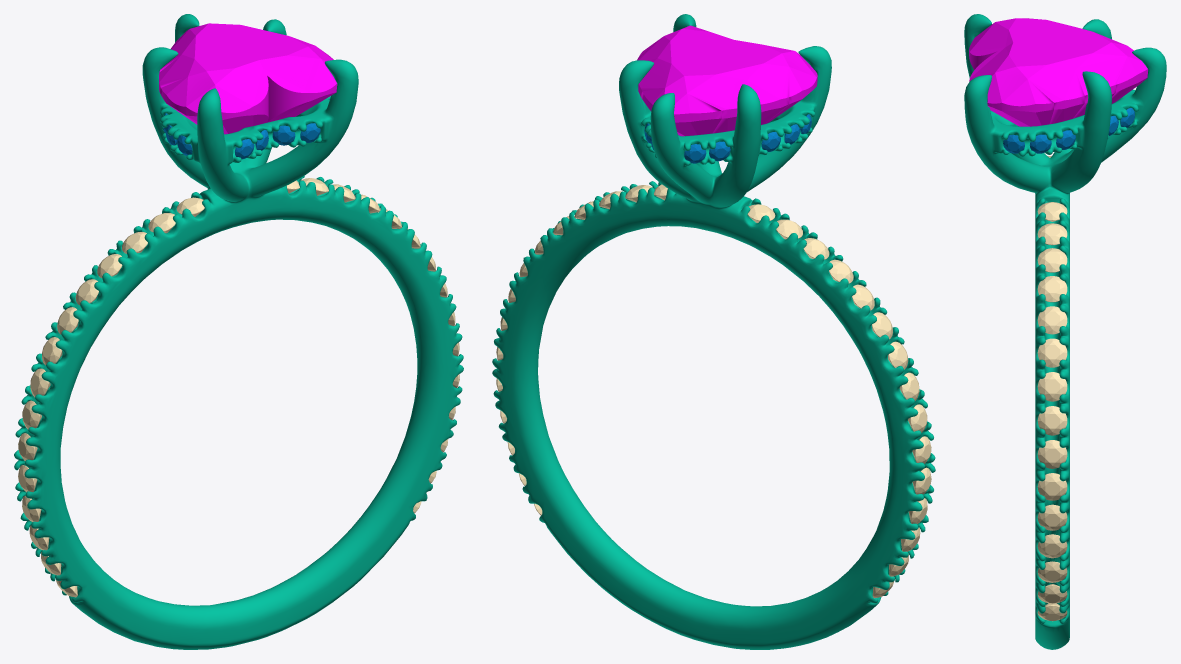
Rendered from BE1D1230_HT_200ct_RENDER.glb.
The picture shows the model from 3 angles, left to right: view 1: azimuth 30°, elevation 25°; view 2: azimuth 150°, elevation 25°; view 3: azimuth 270°, elevation 25°; orthographic projection. The views are drawn at different scales.
Visible parts, largest first — view 1: Metal 01, CS_Diamond_Heart; view 2: Metal 01, CS_Diamond_Heart; view 3: Metal 01, CS_Diamond_Heart, Diamond_Round_Gem_SH.021, Diamond_Round_Gem_SH.022, Diamond_Round_Gem_SH.020, Diamond_Round_Gem_SH.023, Diamond_Round_Gem_SH.019, Diamond_Round_Gem_SH.024, Diamond_Round_Gem_SH.018, Diamond_Round_Gem_SH.025, Diamond_Round_Gem_SH.017, Diamond_Round_Gem_SH.026 (+7 smaller).
Part boxes in pixels (box(x1,y1,x2,y2)): Metal 01: box(14, 14, 463, 649); CS_Diamond_Heart: box(159, 23, 337, 134); Metal 01: box(492, 14, 935, 649); CS_Diamond_Heart: box(637, 25, 817, 136); Metal 01: box(964, 14, 1166, 649); CS_Diamond_Heart: box(969, 18, 1148, 126); Diamond_Round_Gem_SH.021: box(1037, 372, 1067, 401); Diamond_Round_Gem_SH.022: box(1037, 406, 1067, 435); Diamond_Round_Gem_SH.020: box(1037, 338, 1067, 367); Diamond_Round_Gem_SH.023: box(1037, 440, 1067, 468); Diamond_Round_Gem_SH.019: box(1037, 306, 1067, 334); Diamond_Round_Gem_SH.024: box(1037, 473, 1067, 500); Diamond_Round_Gem_SH.018: box(1037, 276, 1067, 302); Diamond_Round_Gem_SH.025: box(1037, 504, 1067, 530); Diamond_Round_Gem_SH.017: box(1037, 248, 1067, 272); Diamond_Round_Gem_SH.026: box(1037, 534, 1067, 558).
Size of the model in its own units: 20.06 by 26.09 by 8.18.
